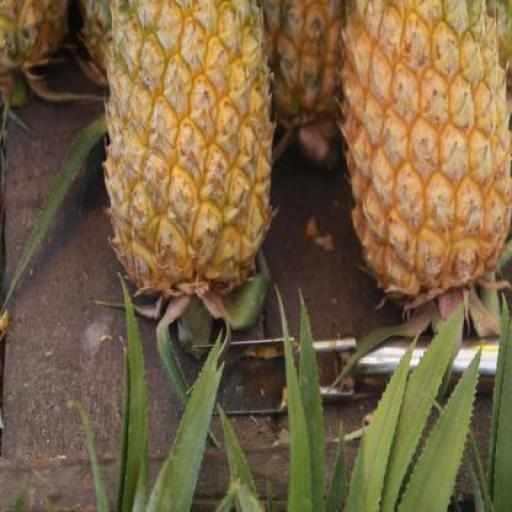Pineapple - v8 v1: (101, 0, 284, 293), (338, 0, 510, 294)
